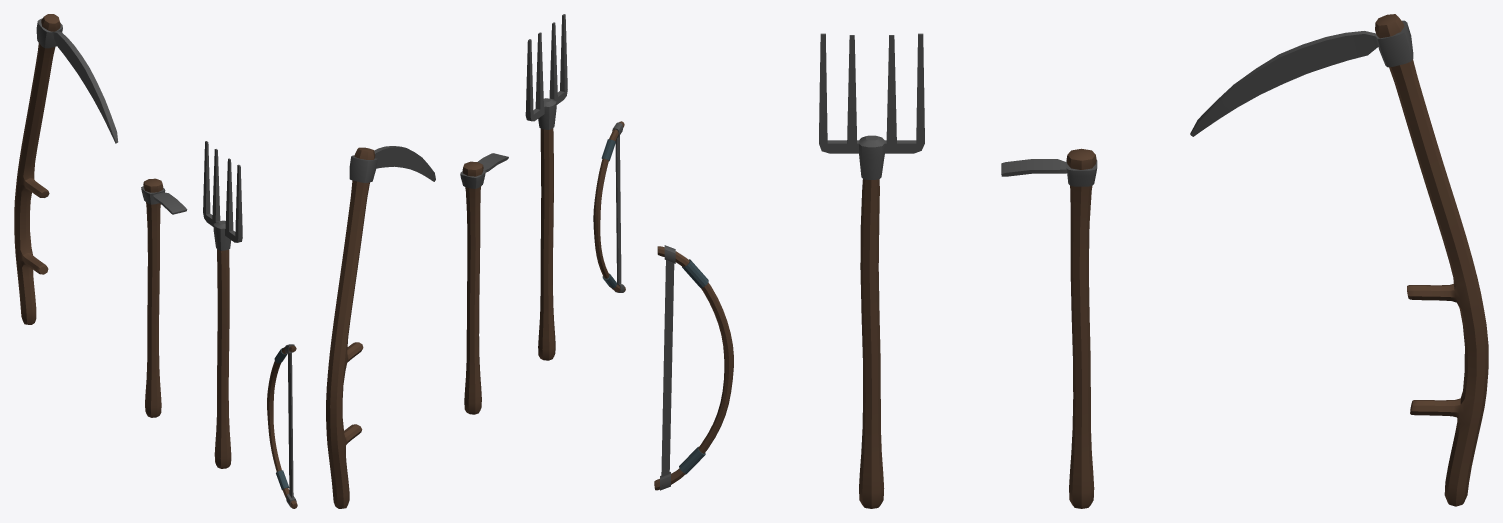
Rendered from Tools.fbx.
3 renders of one model, left to right at view 1: azimuth 30°, elevation 25°; view 2: azimuth 150°, elevation 25°; view 3: azimuth 270°, elevation 25°, orthographic. The views are drawn at different scales.
Visible parts, largest first — view 1: Cube.002, Cube, Cube.004, Cube.005, Cube.003, Cube.006, Cube.008, Cube.001; view 2: Cube.002, Cube, Cube.004, Cube.005, Cube.003, Cube.006, Cube.008, Cube.001; view 3: Cube.002, Cube, Cube.004, Cube.003, Cube.005, Cube.008, Cube.006, Cube.001.
Boxes of the visible parts, x1,y1,x2,y2 form: Cube.002: [14, 14, 60, 324]; Cube: [143, 178, 163, 417]; Cube.004: [214, 249, 231, 468]; Cube.005: [203, 141, 242, 250]; Cube.003: [36, 18, 118, 143]; Cube.006: [267, 345, 297, 508]; Cube.008: [285, 344, 296, 507]; Cube.001: [141, 186, 187, 214]; Cube.002: [326, 147, 375, 508]; Cube: [462, 161, 483, 414]; Cube.004: [538, 128, 555, 360]; Cube.005: [525, 14, 567, 129]; Cube.003: [349, 146, 435, 182]; Cube.006: [593, 121, 625, 291]; Cube.008: [612, 122, 624, 292]; Cube.001: [460, 153, 508, 188]; Cube.002: [1375, 14, 1488, 506]; Cube: [1066, 148, 1096, 508]; Cube.004: [859, 179, 884, 508]; Cube.003: [1190, 20, 1413, 136]; Cube.005: [819, 33, 924, 179]; Cube.008: [660, 245, 675, 490]; Cube.006: [654, 246, 733, 490]; Cube.001: [1001, 159, 1097, 186].
Bounding box in the file's own units: 255 × 4157 × 6427.
